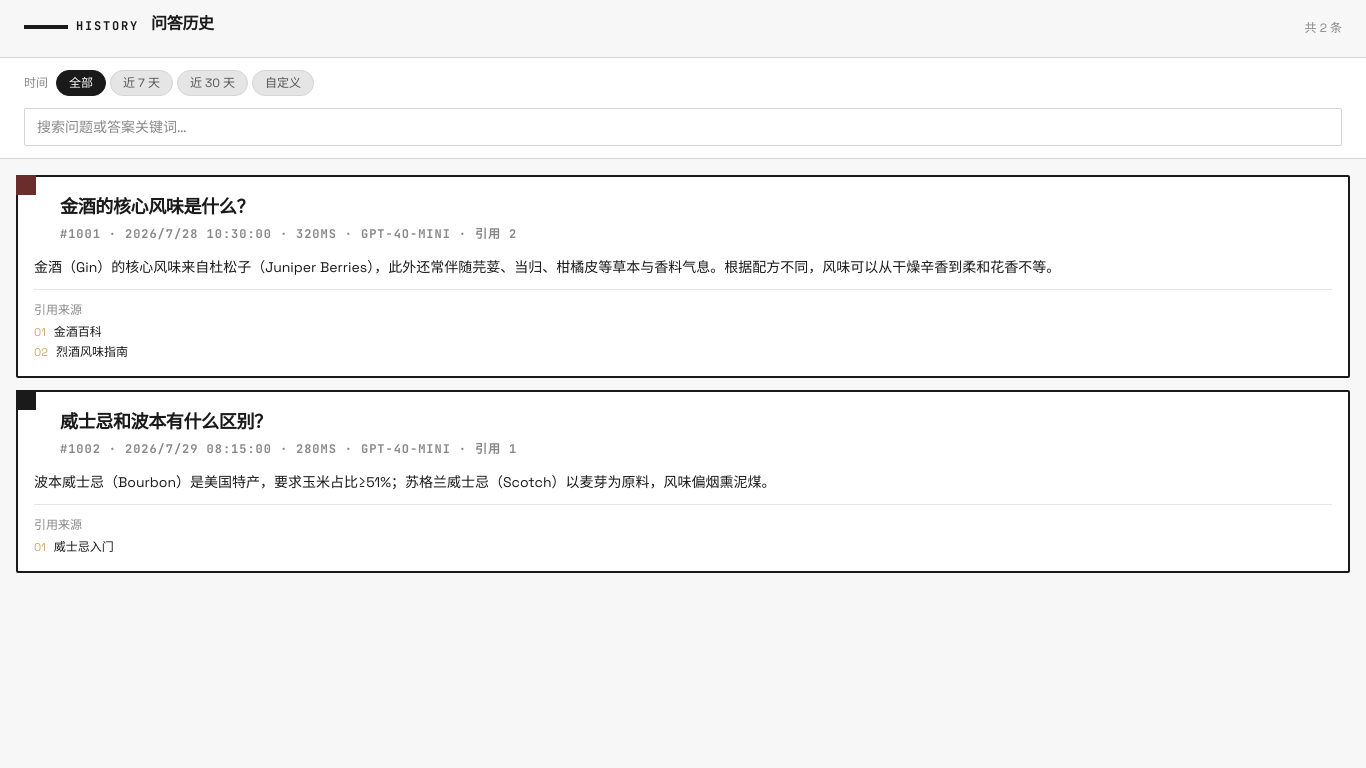
Test case: HistoryPanel › 搜索过滤：在 answer 中匹配关键词也能命中
The image size is (1366, 768).
Note: 「杜松子」只出现在第一条的 answer 中
Type "杜松子" into the search field named "历史搜索框". click: {"x": 683, "y": 127}
box: [24,108,1342,146]
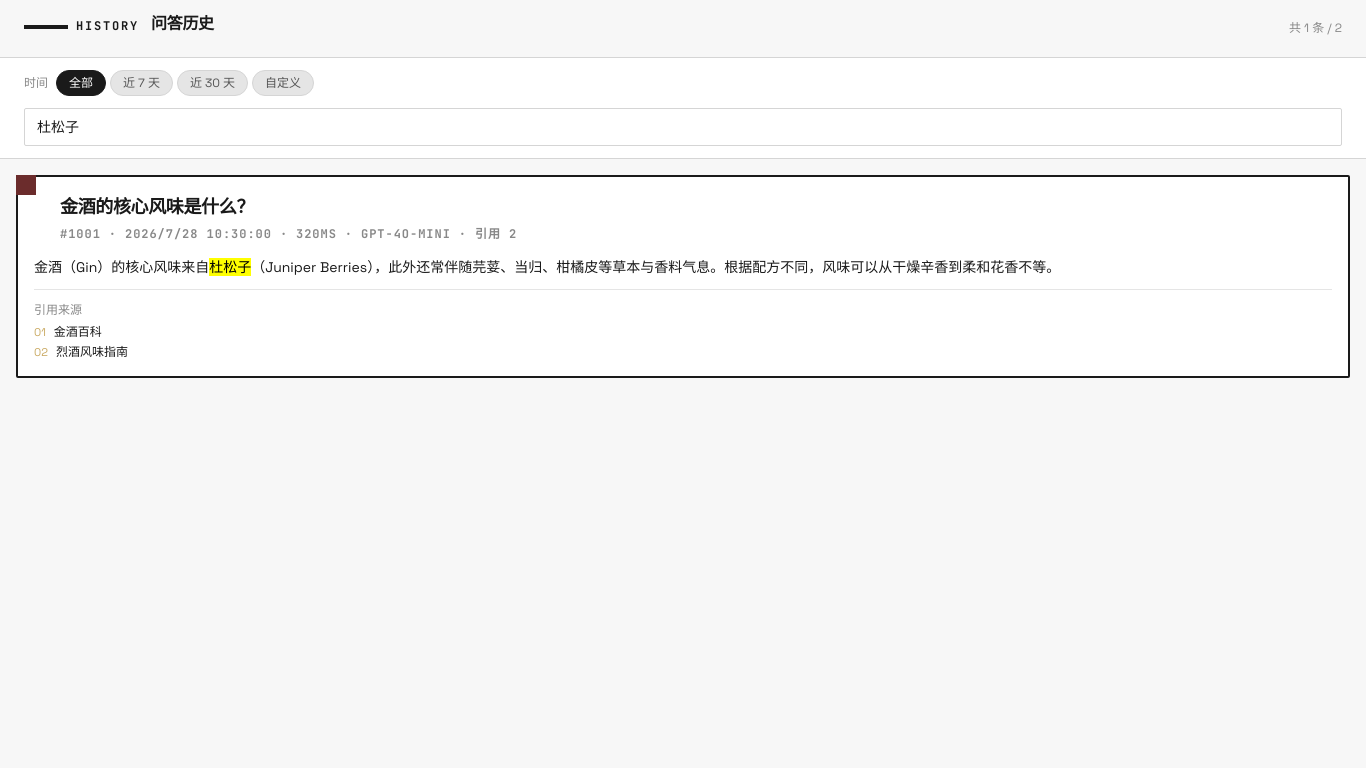
Check: the text "金酒的核心风味是什么？" is shown, box [60,195,254,218]
Check: the text "威士忌和波本有什么区别" is gone
